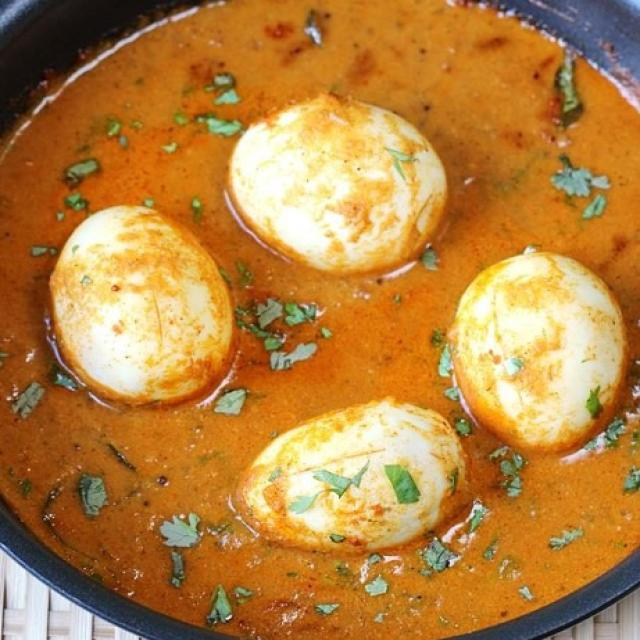EGG: (0, 2, 639, 639)
